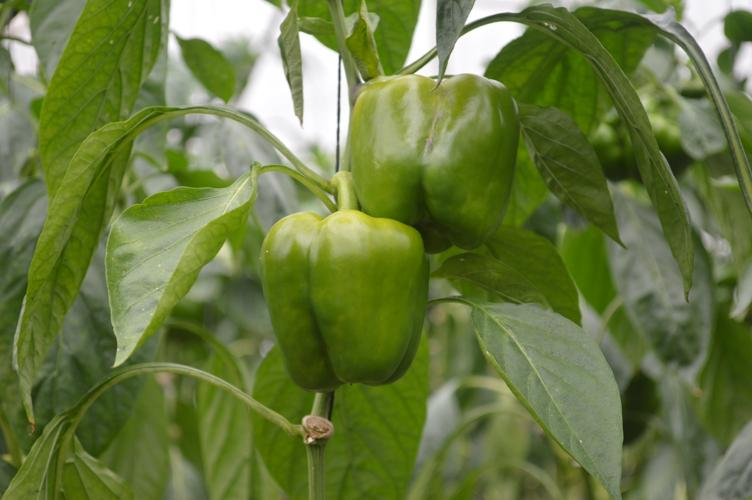BellPepper: (319, 46, 524, 254), (261, 207, 436, 388)
